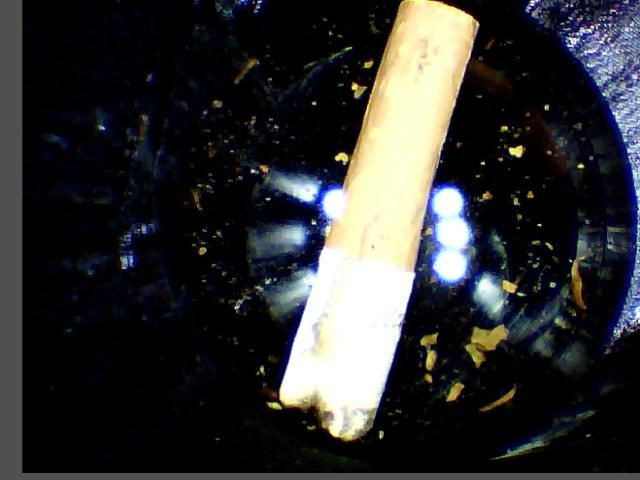megot: (260, 1, 488, 450)
